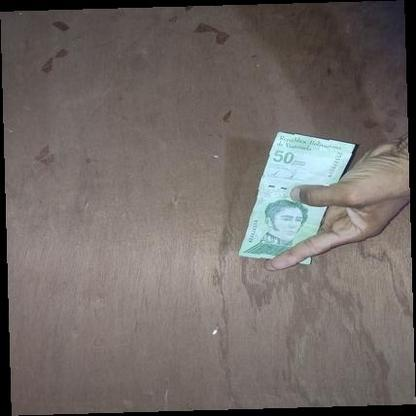fifty-front-vef: (238, 131, 357, 266)
